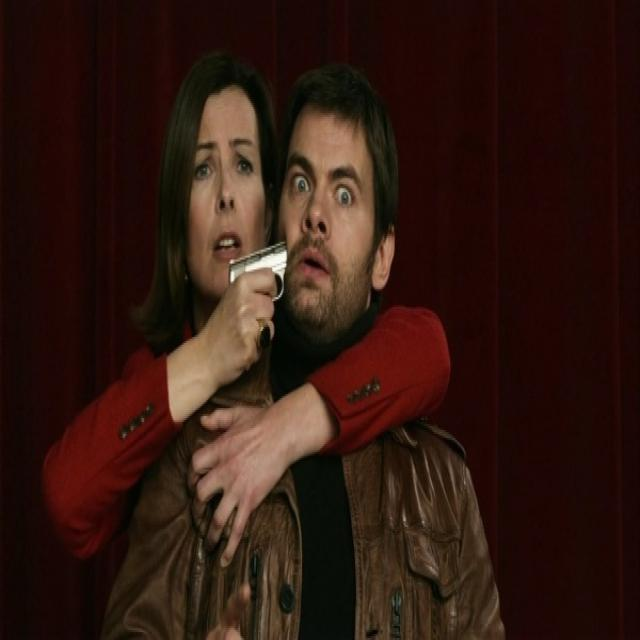weapons: (212, 230, 306, 358)
